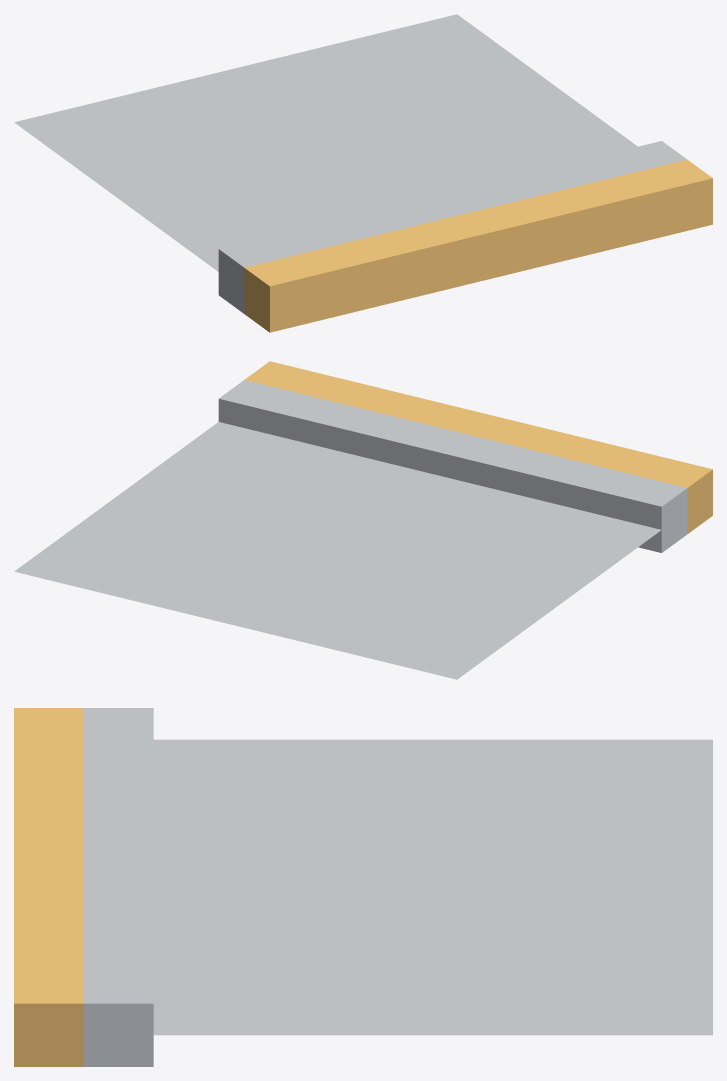
The model's file is platform-side.glb.
3 views of the same model, one above another, from view 1: azimuth 30°, elevation 25°; view 2: azimuth 150°, elevation 25°; view 3: azimuth 270°, elevation 25° (orthographic). The views are drawn at different scales.
Visible parts, largest first — view 1: platform_side; view 2: platform_side; view 3: platform_side.
Boxes of the visible parts, box(x1,y1,x2,y2) form: platform_side: box(14, 14, 712, 332); platform_side: box(14, 361, 712, 679); platform_side: box(14, 708, 712, 1066).
Bounding box in the file's own units: 1 × 0.1 × 1.
